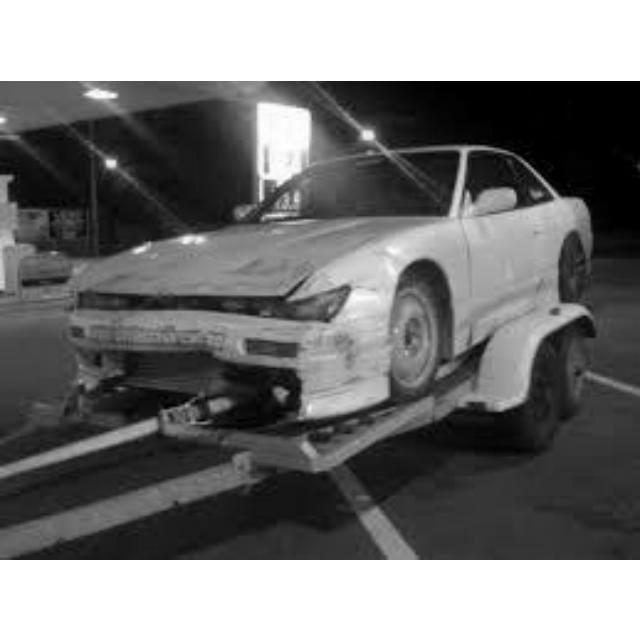bonnet-dent: (134, 207, 373, 295)
front-bumper-dent: (84, 316, 274, 400)
